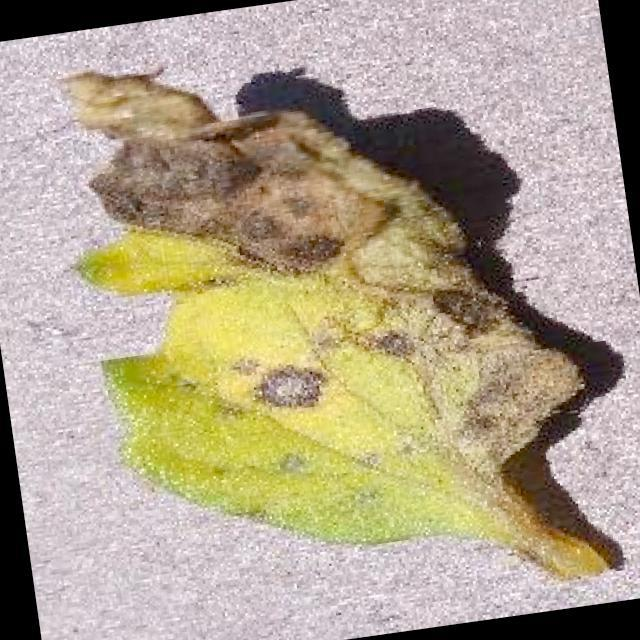Tomato Septoria spot leaf: (52, 1, 598, 586)
